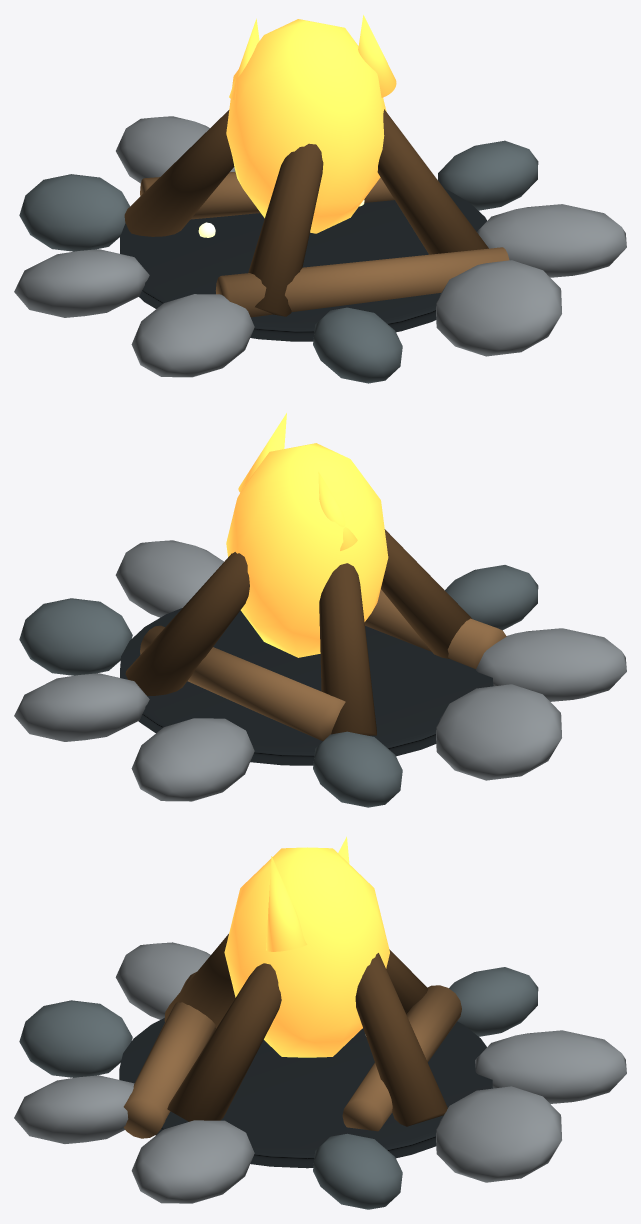
Rendered from 3D模型 props_campfire.glb.
3 views of the same model, one above another, from view 1: azimuth 30°, elevation 25°; view 2: azimuth 150°, elevation 25°; view 3: azimuth 270°, elevation 25° (orthographic).
Parts seen in each view (by area): view 1: part_flame_out, part_ash, part_stone_7, part_log_cross, part_stone_8, part_stone_5, part_log_2, part_stone_4, part_stone_3, part_log_3, part_log_1, part_stone_6 (+5 smaller); view 2: part_flame_out, part_ash, part_stone_4, part_stone_5, part_stone_2, part_log_0, part_log_1, part_stone_1, part_log_cross2, part_stone_0, part_stone_8, part_stone_3 (+5 smaller); view 3: part_flame_out, part_ash, part_stone_1, part_stone_2, part_log_3, part_stone_8, part_log_0, part_stone_6, part_stone_7, part_log_cross, part_stone_0, part_log_cross2 (+5 smaller).
Boxes of the visible parts, box(x1,y1,x2,y2) form: part_flame_out: box(226, 19, 386, 233); part_ash: box(120, 188, 486, 341); part_stone_7: box(436, 260, 561, 356); part_log_cross: box(215, 247, 509, 317); part_stone_8: box(477, 204, 626, 277); part_stone_5: box(131, 294, 254, 377); part_log_2: box(248, 143, 323, 316); part_stone_4: box(14, 249, 149, 317); part_stone_3: box(19, 174, 129, 251); part_log_3: box(377, 109, 488, 254); part_log_1: box(124, 110, 234, 236); part_stone_6: box(313, 307, 402, 383); part_flame_out: box(226, 443, 388, 657); part_ash: box(120, 608, 493, 765); part_stone_4: box(436, 684, 561, 780); part_stone_5: box(476, 628, 626, 701); part_stone_2: box(131, 718, 254, 801); part_log_0: box(125, 552, 249, 695); part_log_1: box(319, 563, 376, 735); part_stone_1: box(14, 673, 149, 741); part_log_cross2: box(140, 625, 345, 740); part_stone_0: box(19, 598, 132, 675); part_stone_8: box(115, 540, 223, 617); part_stone_3: box(313, 731, 402, 807); part_flame_out: box(224, 847, 389, 1057); part_ash: box(119, 1017, 492, 1168); part_stone_1: box(436, 1086, 561, 1182); part_stone_2: box(475, 1030, 626, 1103); part_log_3: box(167, 963, 281, 1121); part_stone_8: box(131, 1120, 254, 1203); part_log_0: box(355, 953, 447, 1126); part_stone_6: box(19, 1000, 132, 1077); part_stone_7: box(14, 1075, 134, 1143); part_log_cross: box(123, 972, 215, 1138); part_stone_0: box(313, 1133, 402, 1209); part_log_cross2: box(342, 985, 461, 1131).
Bounding box in the file's own units: 1.09 × 0.534 × 1.11.
